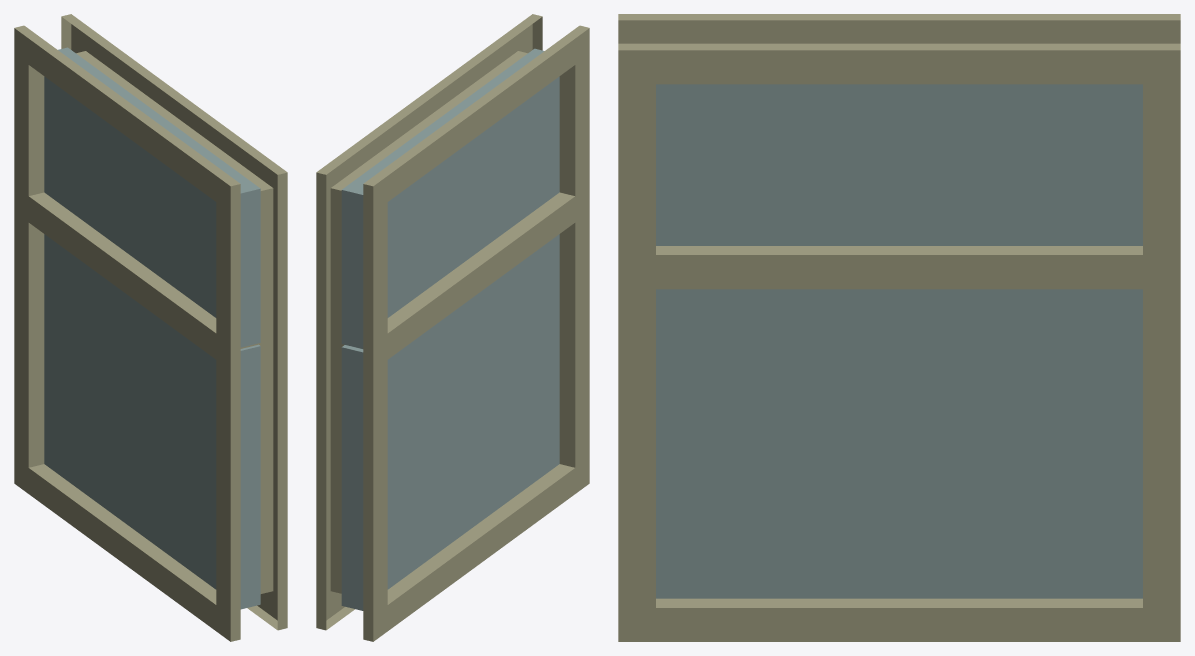
Rendered from PR_Window.fbx.
3 views of the same model, side by side, from view 1: azimuth 30°, elevation 25°; view 2: azimuth 150°, elevation 25°; view 3: azimuth 270°, elevation 25° (orthographic). The views are drawn at different scales.
Parts seen in each view (by area): view 1: ATTIC_NOTBROKEN:polySurface12, ATTIC_NOTBROKEN:Glass_Down, ATTIC_NOTBROKEN:Glass_Up, ATTIC_NOTBROKEN:polySurface13; view 2: ATTIC_NOTBROKEN:polySurface12, ATTIC_NOTBROKEN:Glass_Down, ATTIC_NOTBROKEN:Glass_Up, ATTIC_NOTBROKEN:polySurface13; view 3: ATTIC_NOTBROKEN:Glass_Down, ATTIC_NOTBROKEN:polySurface12, ATTIC_NOTBROKEN:Glass_Up, ATTIC_NOTBROKEN:polySurface13.
Boxes of the visible parts, x1,y1,x2,y2 form: ATTIC_NOTBROKEN:polySurface12: (14, 14, 287, 641); ATTIC_NOTBROKEN:Glass_Down: (44, 234, 260, 609); ATTIC_NOTBROKEN:Glass_Up: (44, 47, 260, 347); ATTIC_NOTBROKEN:polySurface13: (28, 192, 216, 359); ATTIC_NOTBROKEN:polySurface12: (316, 14, 589, 641); ATTIC_NOTBROKEN:Glass_Down: (341, 234, 559, 610); ATTIC_NOTBROKEN:Glass_Up: (341, 48, 559, 348); ATTIC_NOTBROKEN:polySurface13: (387, 192, 575, 359); ATTIC_NOTBROKEN:Glass_Down: (656, 289, 1142, 598); ATTIC_NOTBROKEN:polySurface12: (618, 14, 1180, 641); ATTIC_NOTBROKEN:Glass_Up: (656, 84, 1142, 245); ATTIC_NOTBROKEN:polySurface13: (656, 246, 1142, 289).
Bounding box in the file's own units: 0.6572 × 5.01 × 4.32.
